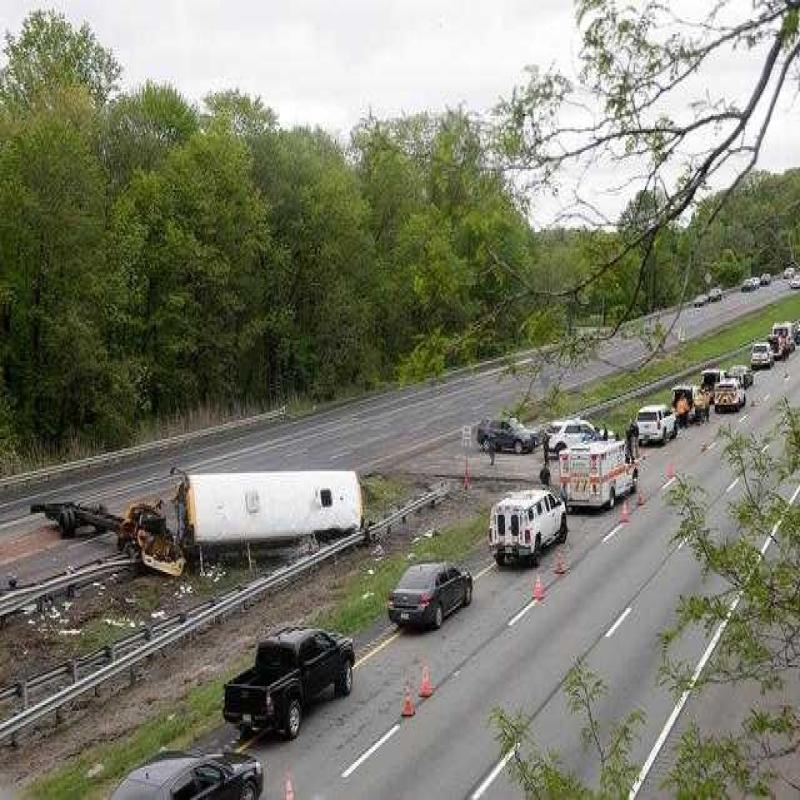bus: (180, 467, 374, 550)
